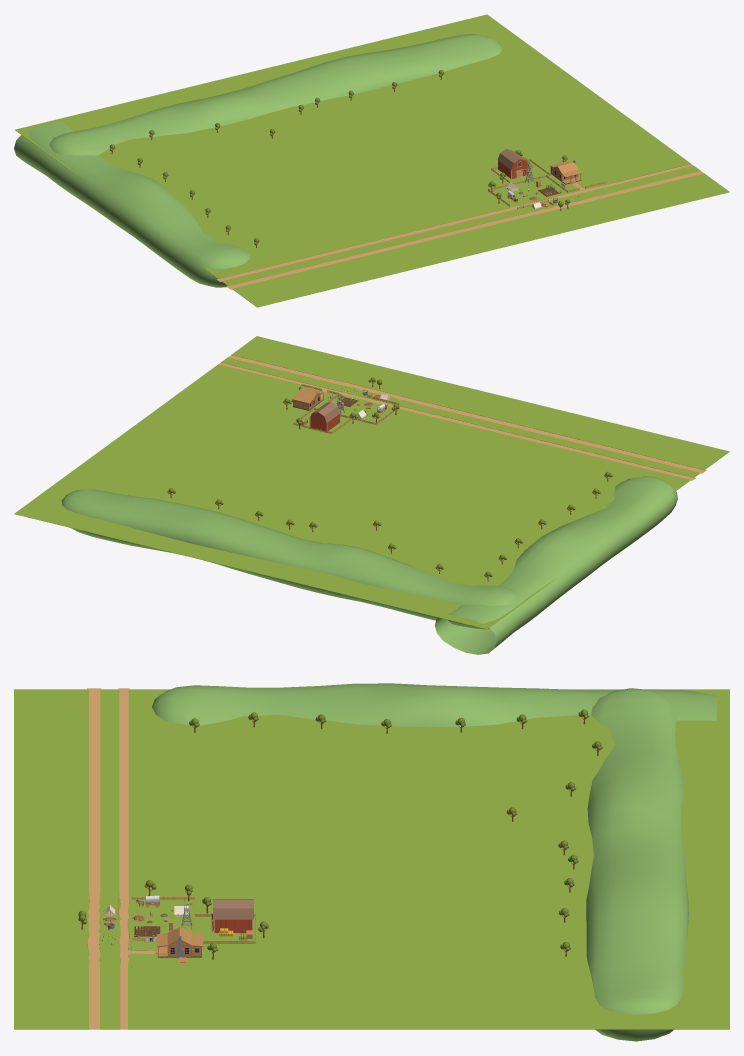
The model's file is homestead-final-transformed.glb.
3 renders of one model, top to bottom at view 1: azimuth 30°, elevation 25°; view 2: azimuth 150°, elevation 25°; view 3: azimuth 270°, elevation 25°, orthographic. The views are drawn at different scales.
Visible parts, largest first — view 1: Ground.001, green, Road, Farm_House, tree, Fence; view 2: Ground.001, green, Road, tree, Farm_House; view 3: Ground.001, green, Road, Farm_House, tree, House_Part.
Part boxes in pixels (x1,y1,x2,y2): Ground.001: (15,14,729,307); green: (14,34,502,287); Road: (217,164,703,289); Farm_House: (497,149,528,179); tree: (109,70,444,247); Fence: (488,159,605,209); Ground.001: (14,336,729,629); green: (61,476,677,654); Road: (219,355,706,480); tree: (167,471,612,581); Farm_House: (309,402,340,431); Ground.001: (14,689,729,1029); green: (152,683,717,1041); Road: (87,688,156,1029); Farm_House: (211,899,253,933); tree: (189,709,602,956); House_Part: (156,927,202,958).
Size of the model in its own units: 273 by 29.59 by 239.
Materials: 9 (8 with a texture image).
